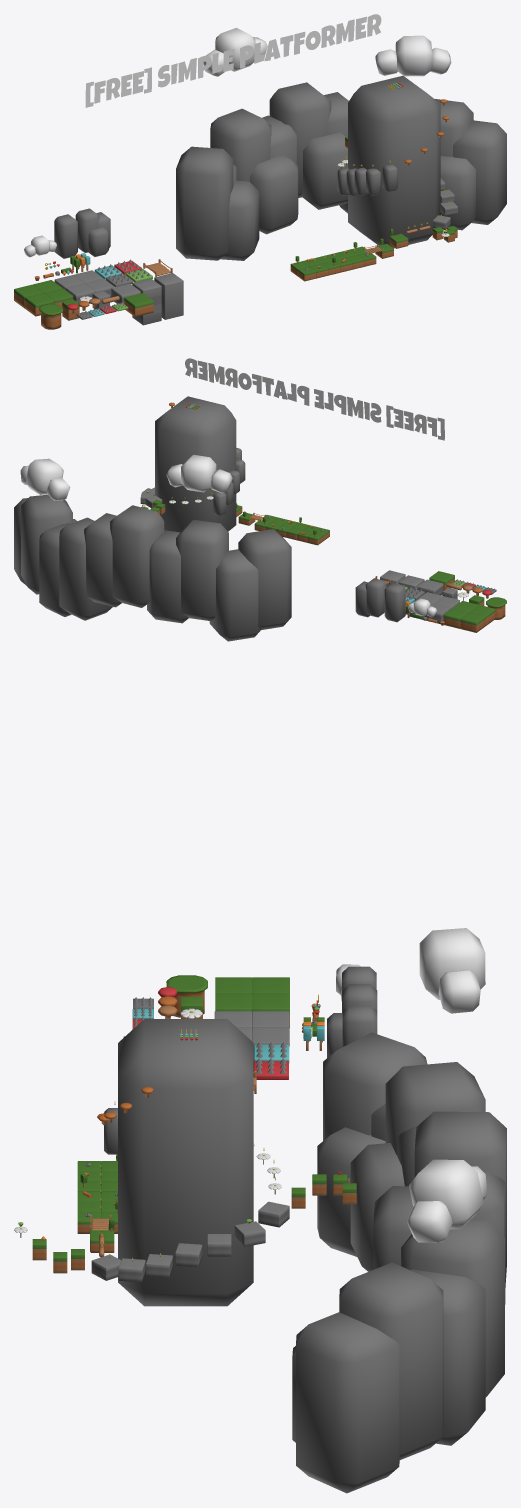
File: Simple_Platform.fbx
3 renders of one model, top to bottom at view 1: azimuth 30°, elevation 25°; view 2: azimuth 150°, elevation 25°; view 3: azimuth 270°, elevation 25°, orthographic. The views are drawn at different scales.
Visible parts, largest first — view 1: Quick_ExampleLevel, Text, Background_Bundle_Mountains, 2x2_Grass_Platform, 2x2_Stone_Platform, Stone_Platform_0, Background_Mountains, Stone_Platform_3.001, Small_Grass_Platform2, Grass_Platform_0, Background_Clouds, Stone_Platform_3.002; view 2: Quick_ExampleLevel, Text, 2x2_Grass_Platform, Background_Bundle_Mountains, Background_Mountains, 2x2_Stone_Platform, Background_Clouds; view 3: Quick_ExampleLevel, 2x2_Grass_Platform, Background_Bundle_Mountains, 2x2_Stone_Platform, Grass_Platform_0.
Boxes of the visible parts, x1,y1,x2,y2 form: Quick_ExampleLevel: (176, 28, 506, 281); Text: (85, 14, 381, 107); Background_Bundle_Mountains: (75, 208, 110, 256); 2x2_Grass_Platform: (14, 280, 73, 316); 2x2_Stone_Platform: (54, 270, 113, 303); Stone_Platform_0: (154, 273, 183, 319); Background_Mountains: (54, 214, 77, 258); Stone_Platform_3.001: (132, 278, 161, 325); Small_Grass_Platform2: (124, 293, 153, 316); Grass_Platform_0: (39, 304, 63, 329); Background_Clouds: (24, 235, 56, 257); Stone_Platform_3.002: (111, 283, 140, 303); Quick_ExampleLevel: (14, 396, 329, 641); Text: (185, 358, 444, 440); 2x2_Grass_Platform: (443, 601, 495, 632); Background_Bundle_Mountains: (355, 578, 386, 617); Background_Mountains: (384, 583, 405, 622); 2x2_Stone_Platform: (409, 592, 459, 624); Background_Clouds: (408, 598, 436, 617); Quick_ExampleLevel: (14, 928, 506, 1493); 2x2_Grass_Platform: (215, 977, 289, 1027); Background_Bundle_Mountains: (327, 984, 377, 1057); 2x2_Stone_Platform: (214, 1011, 289, 1061); Grass_Platform_0: (166, 975, 207, 1017).
Size of the model in its own units: 5383 by 2656 by 2636.
